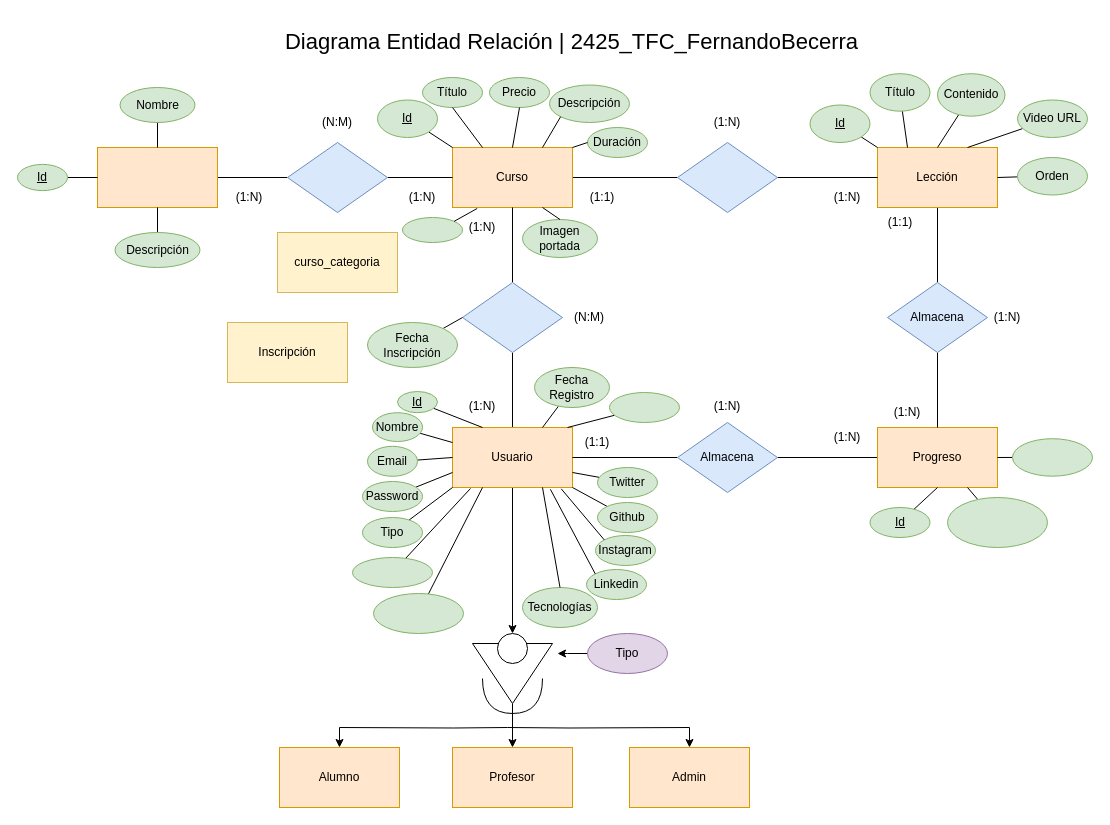
The diagram is 1110 pixels wide and 825 high, and some of its shapes have lost their labels. Each missing label, with the box of its shape:
Categoria: (96, 146, 218, 208)
Completado: (1012, 438, 1092, 476)
Compuesto por: (676, 142, 778, 212)
Fecha Actualización: (946, 496, 1048, 548)
Foto perfil: (608, 392, 680, 422)
Inscrito en: (462, 282, 562, 352)
Nivel: (402, 216, 462, 242)
Pertenece a: (286, 142, 388, 212)
Plan seleccionado: (372, 592, 464, 634)
Tecnologias: (352, 556, 432, 588)
